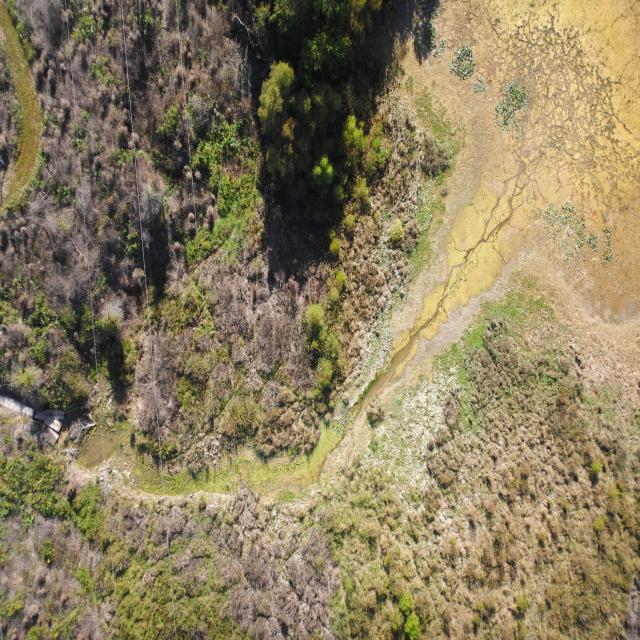Area of Interest: (250, 14, 385, 206)
